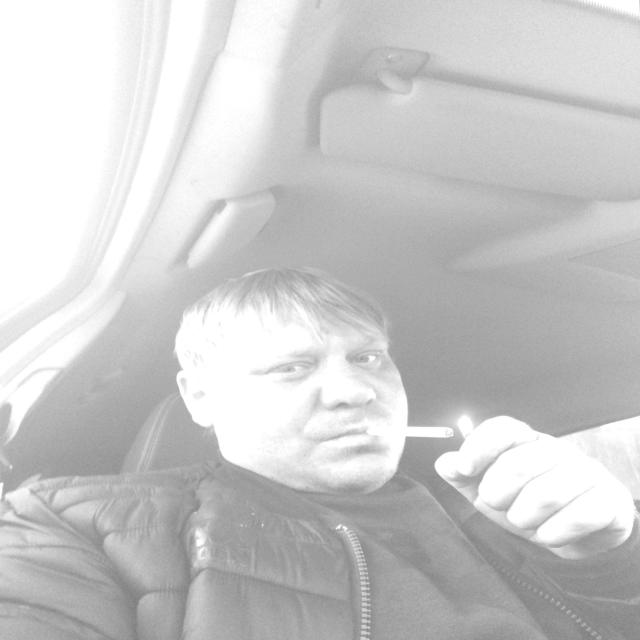Cigarette: (356, 419, 461, 448)
